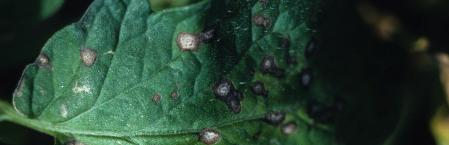Tomato Septoria leaf spot: (0, 0, 428, 145)
